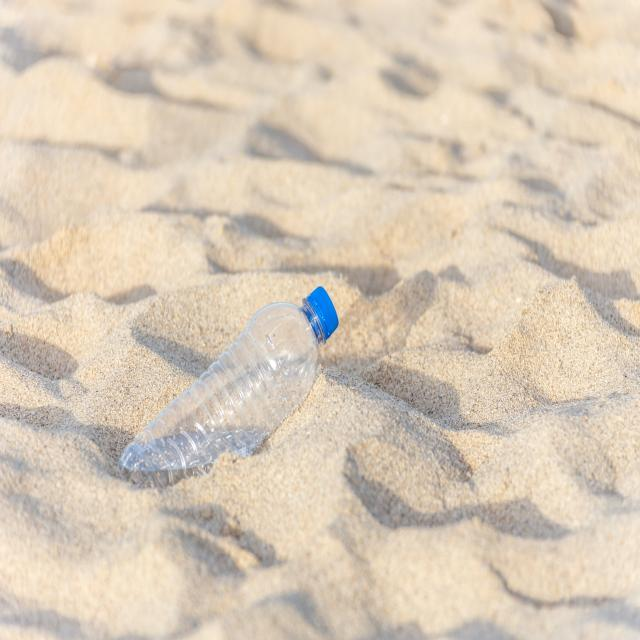bottle: (120, 284, 344, 495)
